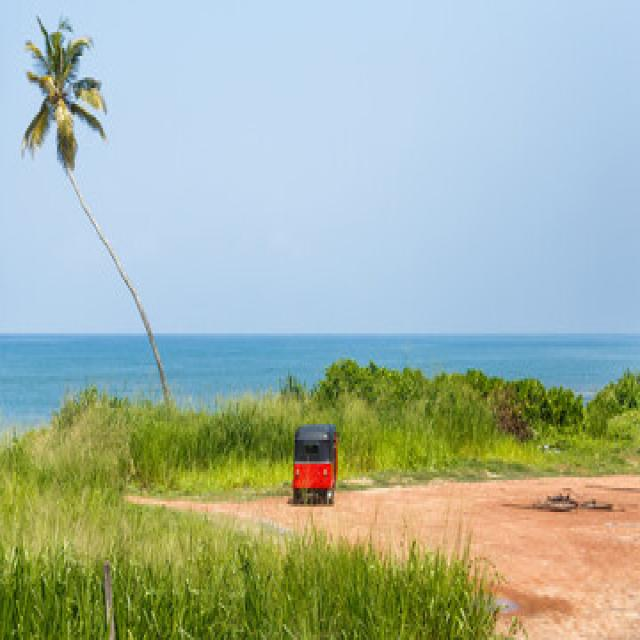three wheeler: (292, 424, 336, 504)
